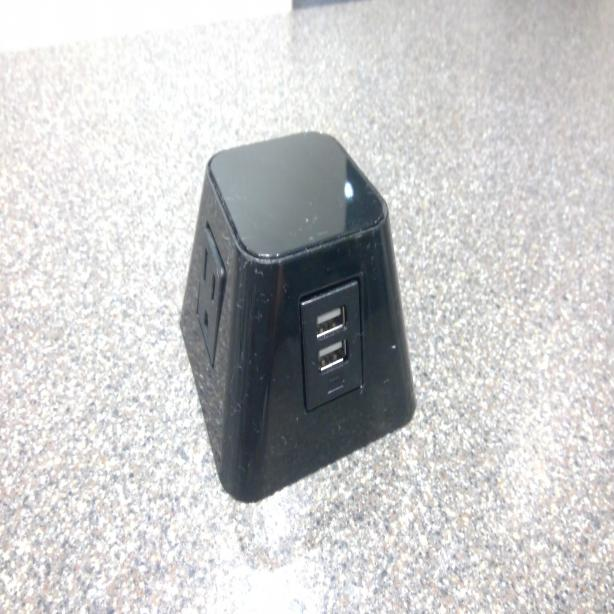typeb: (190, 245, 226, 352)
